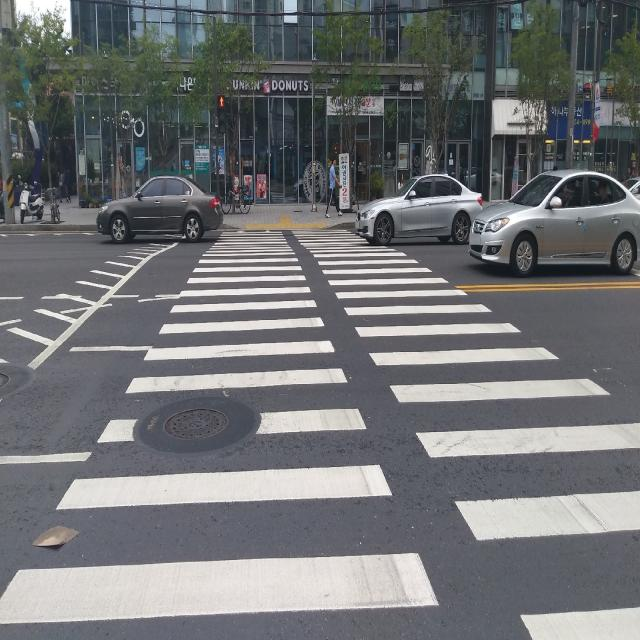빨간불: (218, 97, 225, 135)
횡단보도: (0, 226, 640, 640)
